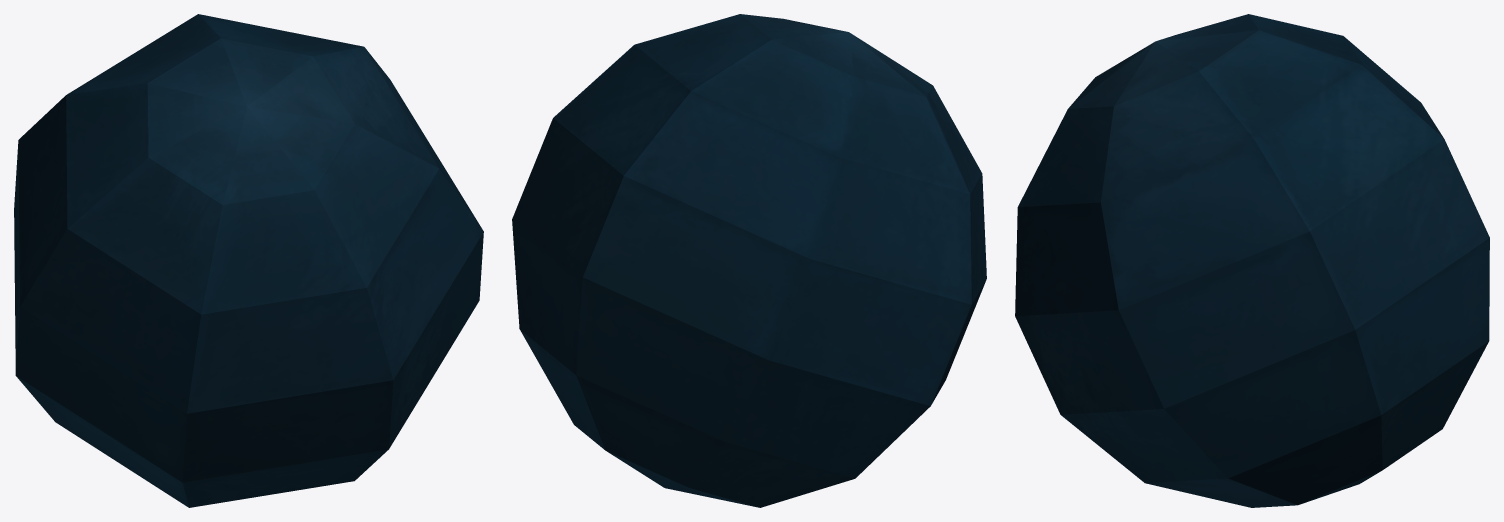
The model's file is Monolith5.fbx.
The picture shows the model from 3 angles, left to right: view 1: azimuth 30°, elevation 25°; view 2: azimuth 150°, elevation 25°; view 3: azimuth 270°, elevation 25°; orthographic projection.
Visible parts, largest first — view 1: polySurface3; view 2: polySurface3; view 3: polySurface3.
Boxes of the visible parts, x1,y1,x2,y2 form: polySurface3: [14, 14, 483, 507]; polySurface3: [512, 14, 986, 507]; polySurface3: [1015, 14, 1489, 507].
Size of the model in its own units: 3.63 by 3.78 by 3.62.
